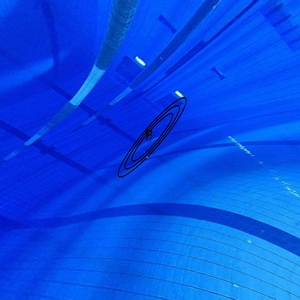circle: (116, 94, 190, 184)
submarine: (142, 127, 155, 143)
